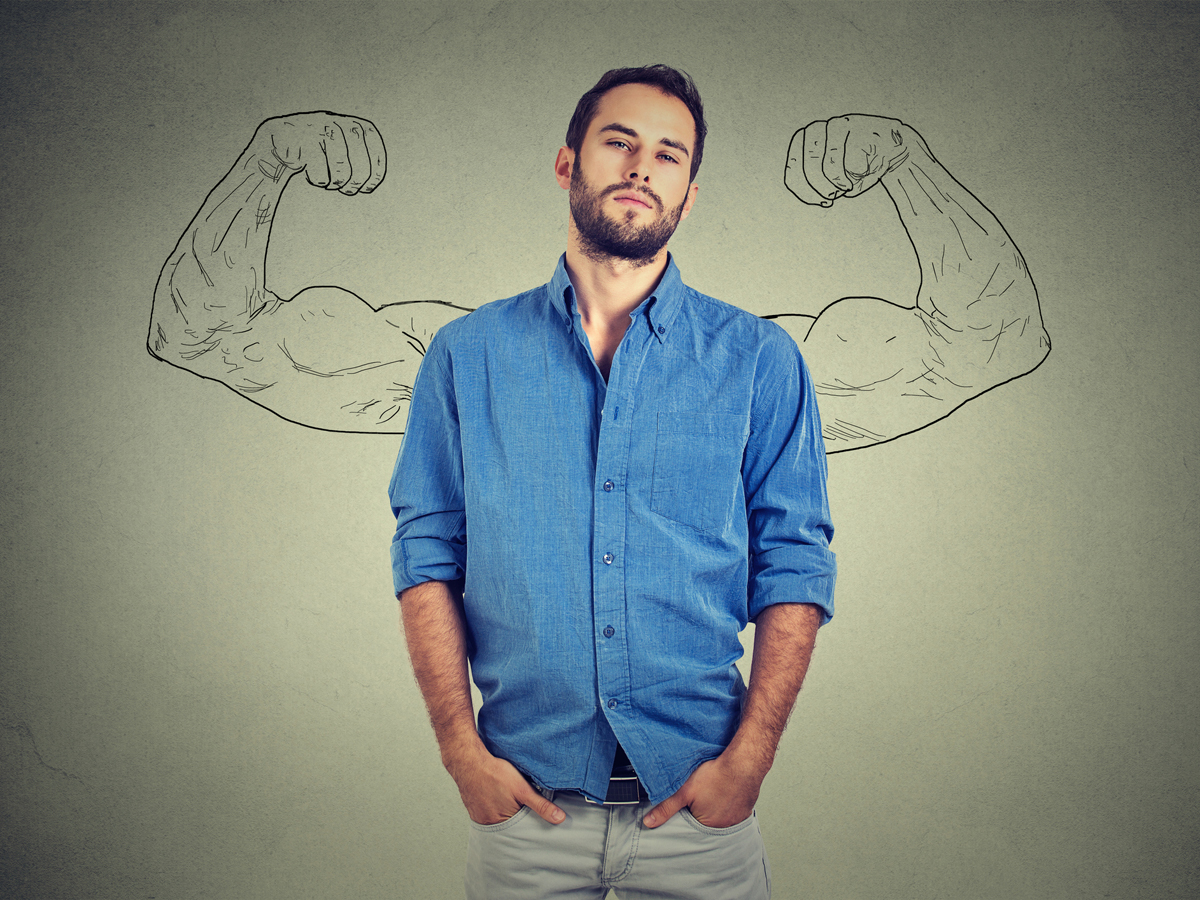NoMask: (586, 121, 687, 255)
